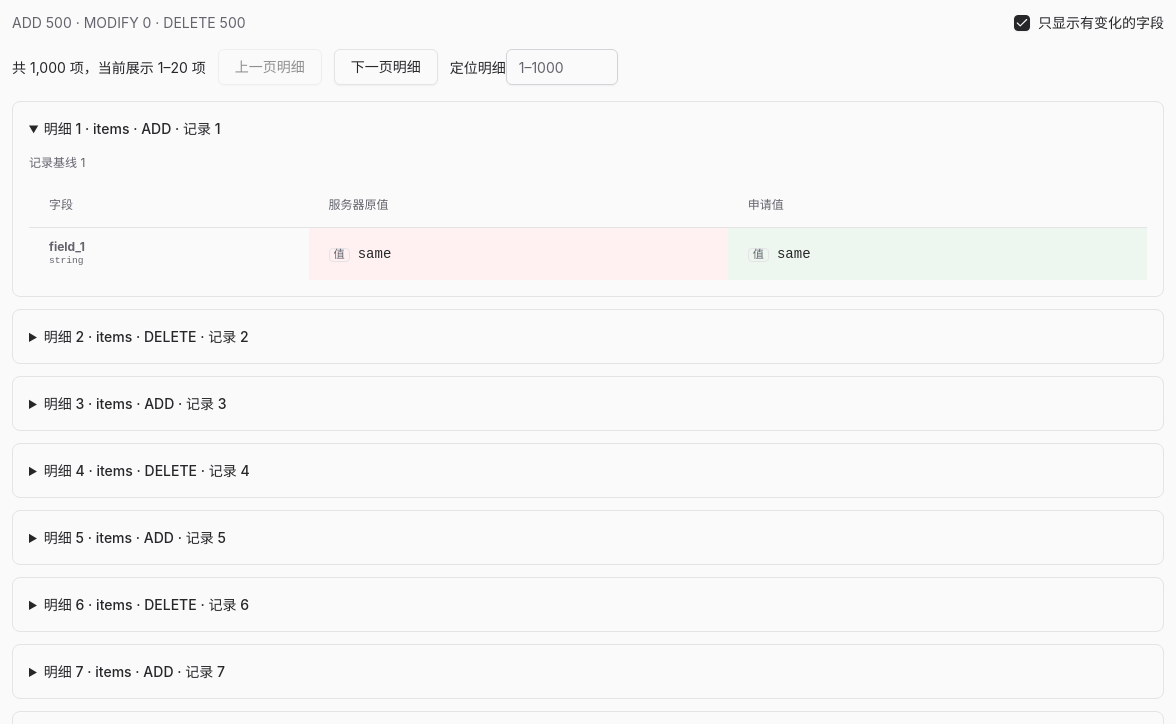
Scenario: 千项混合差异每页20项，仅展开首项且 ADD/DELETE 保持完整
Expected: the text "field_1" is shown, [49,239,85,254]
Expected: the text "field_2" is not shown
Click the heading "明细 2 · items · DELETE · 记录 2".
click(146, 336)  # box [44,328,249,344]
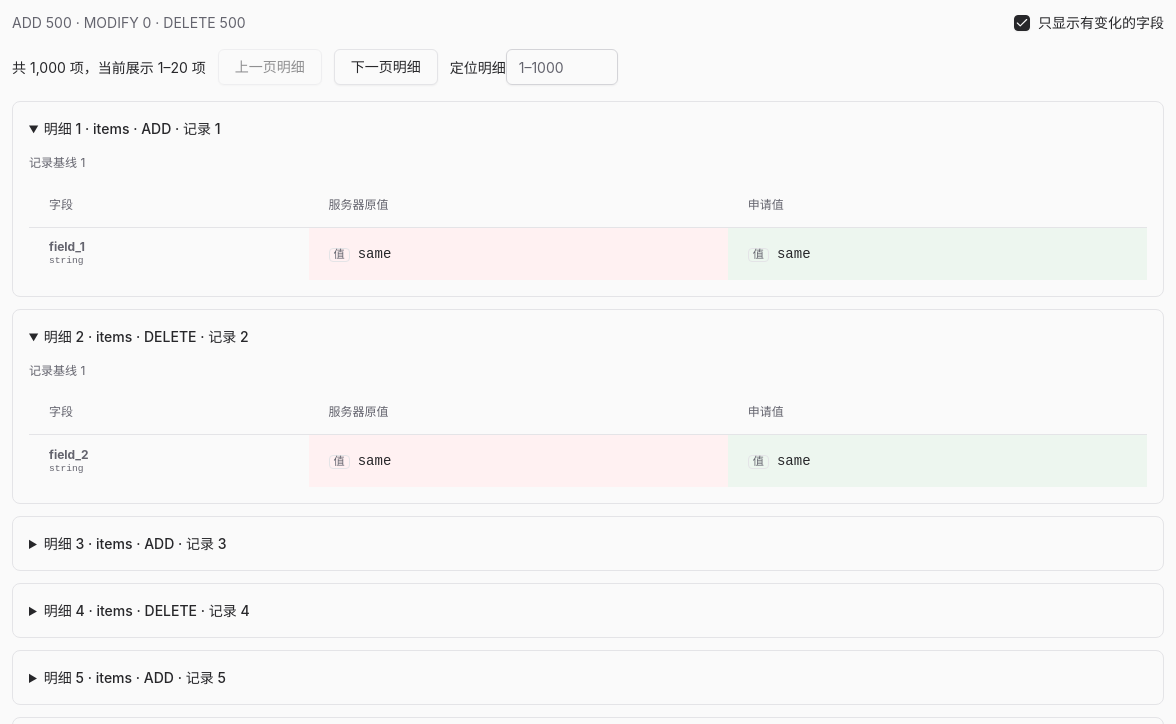
Now the text "field_2" is shown, box [49,447,89,462]
Click the button "下一页明细".
click(386, 67)  # box [334,49,438,85]
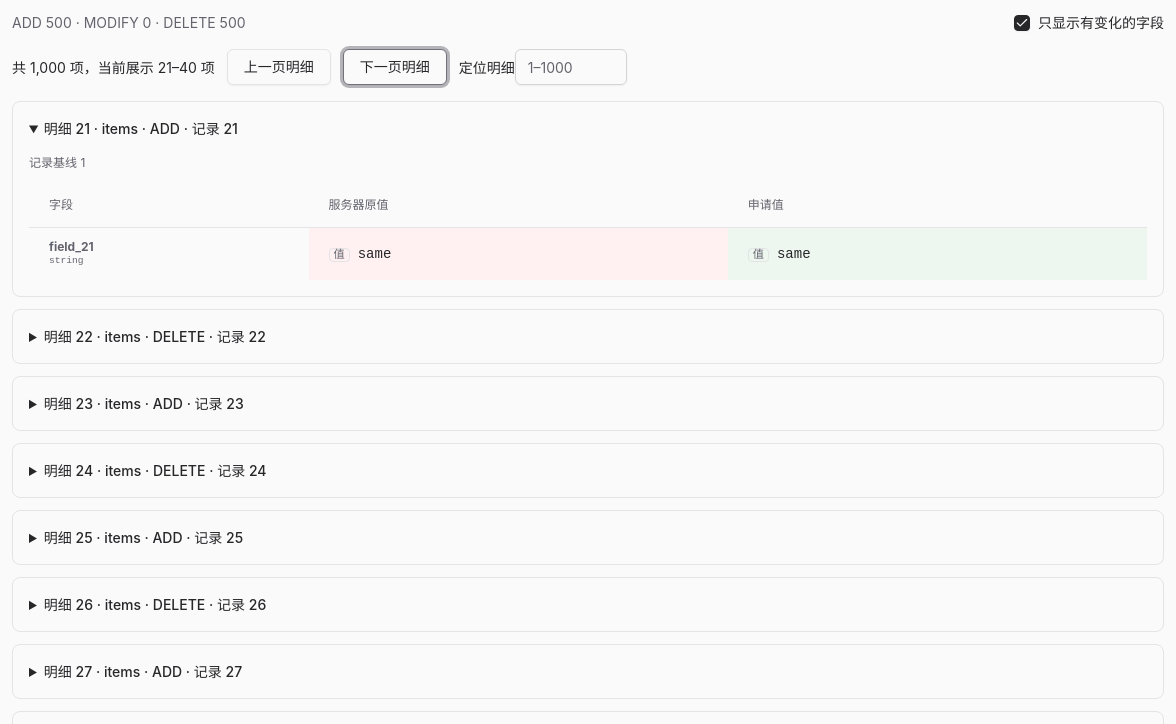
Now the text "field_21" is shown, box [49,239,94,254]
Type "1000" into the field labelled "定位明细".
click(571, 67); type("1000")  # box [515,49,627,85]
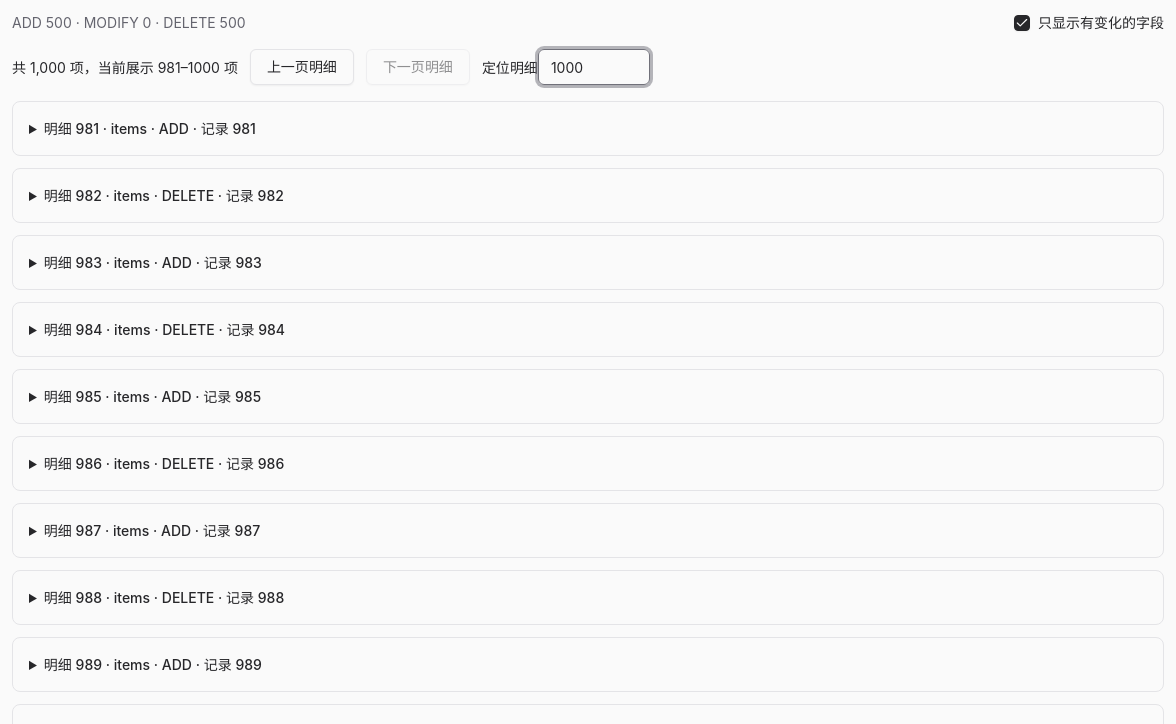
Now the button "下一页明细" is disabled, box [366,49,470,85]
Now the text "共 1,000 项，当前展示 981–1000 项" is shown, box [12,56,238,78]
